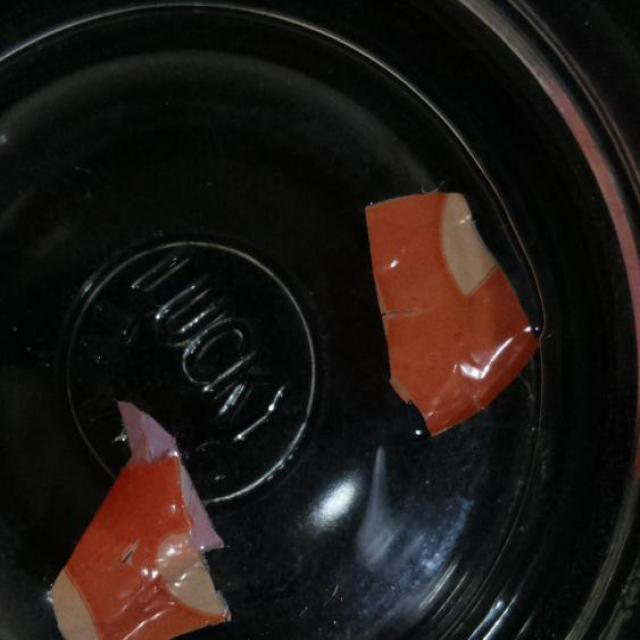fiber: (39, 393, 240, 639), (351, 193, 539, 441)
